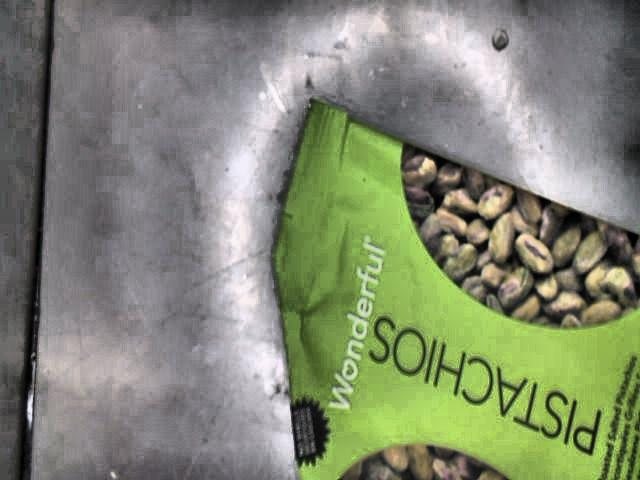Plastic: (271, 101, 640, 480)
